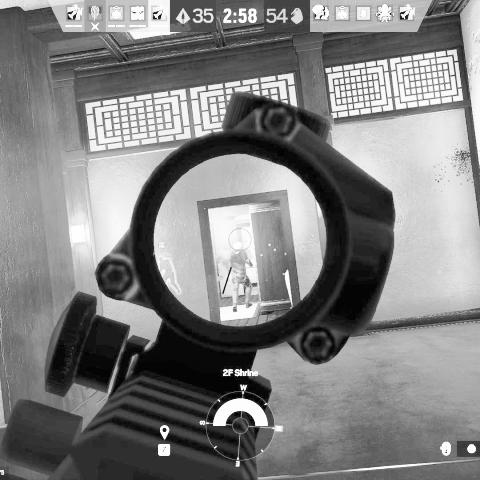Character: (228, 240, 255, 313)
Friend_label: (152, 242, 172, 256)
Head: (232, 241, 244, 252)
